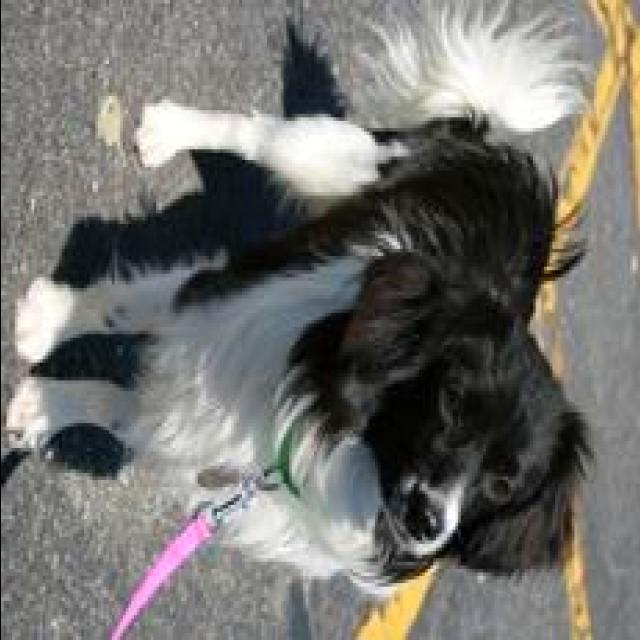papillon: (3, 0, 599, 636)
